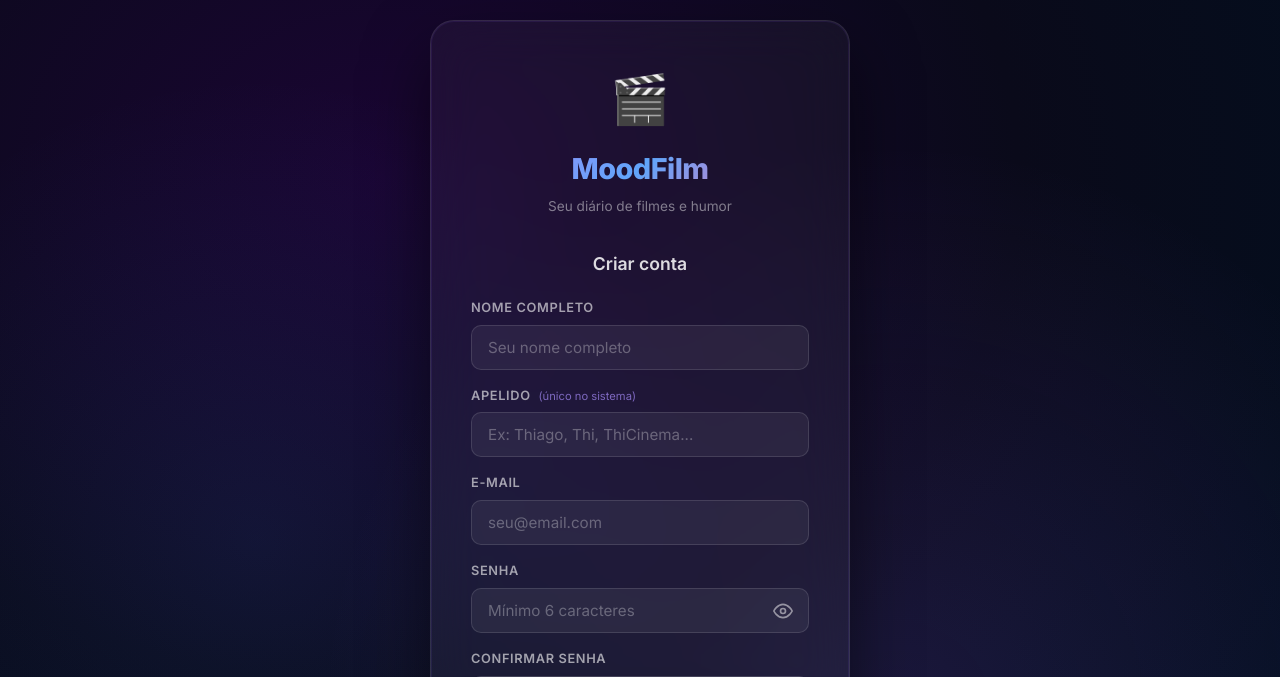
Test: Register Page Component › deve exibir erro caso as senhas digitadas não coincidam
This screenshot has width=1280, height=677.
Type "Thiago Silva" into the field labelled "Nome completo" at (640, 347), box [471,325,809,370]
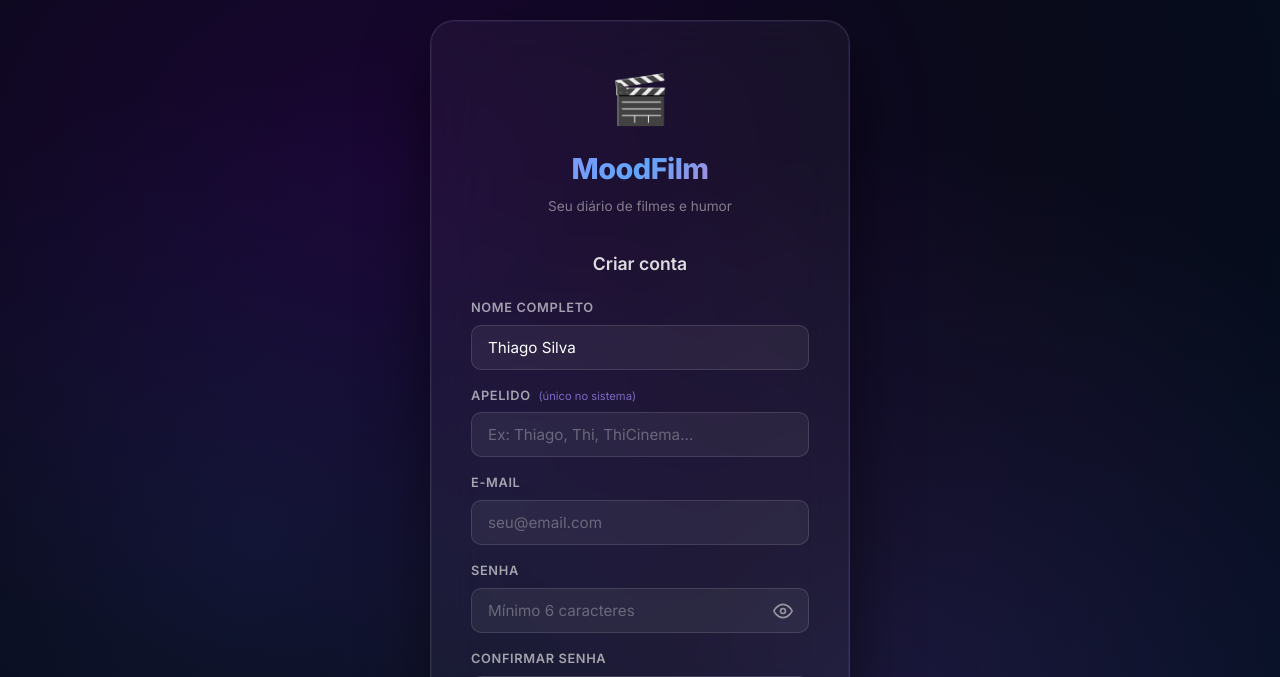
Type "thiagocine" into the field labelled "Apelido (único no sistema)" at (640, 435), box [471,412,809,458]
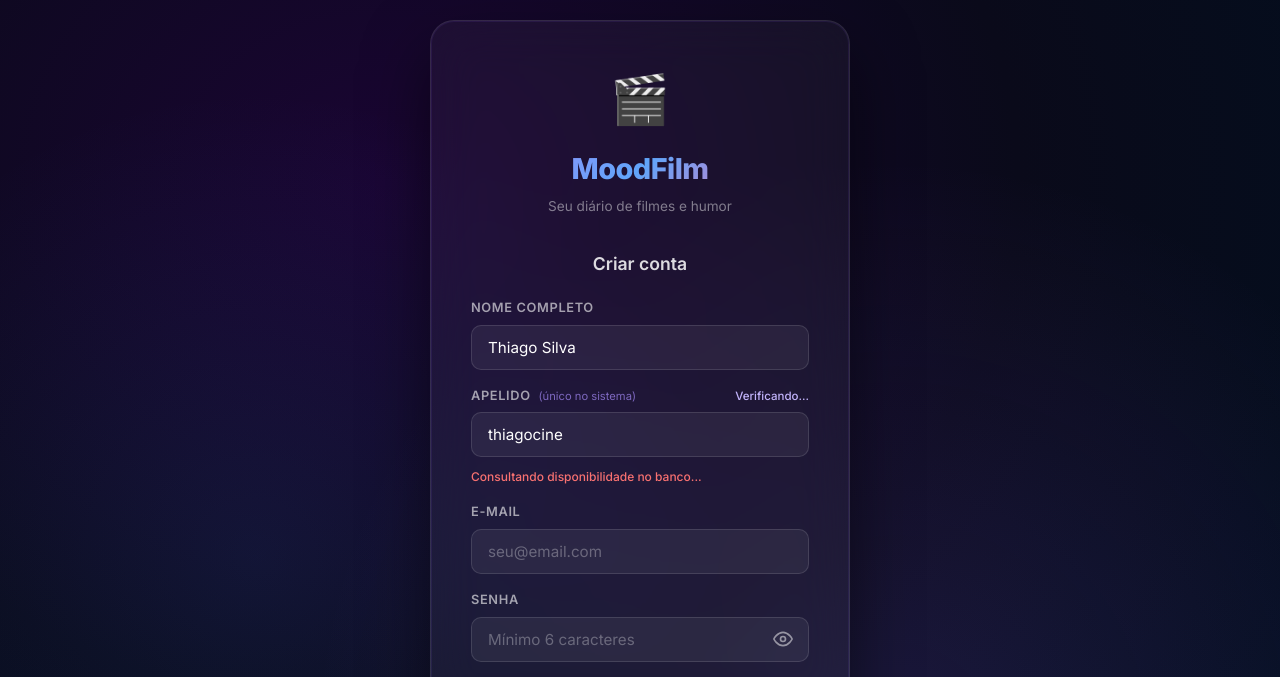
Type "thiago@teste.com" into the field labelled "E-mail" at (640, 552), box [471,529,809,574]
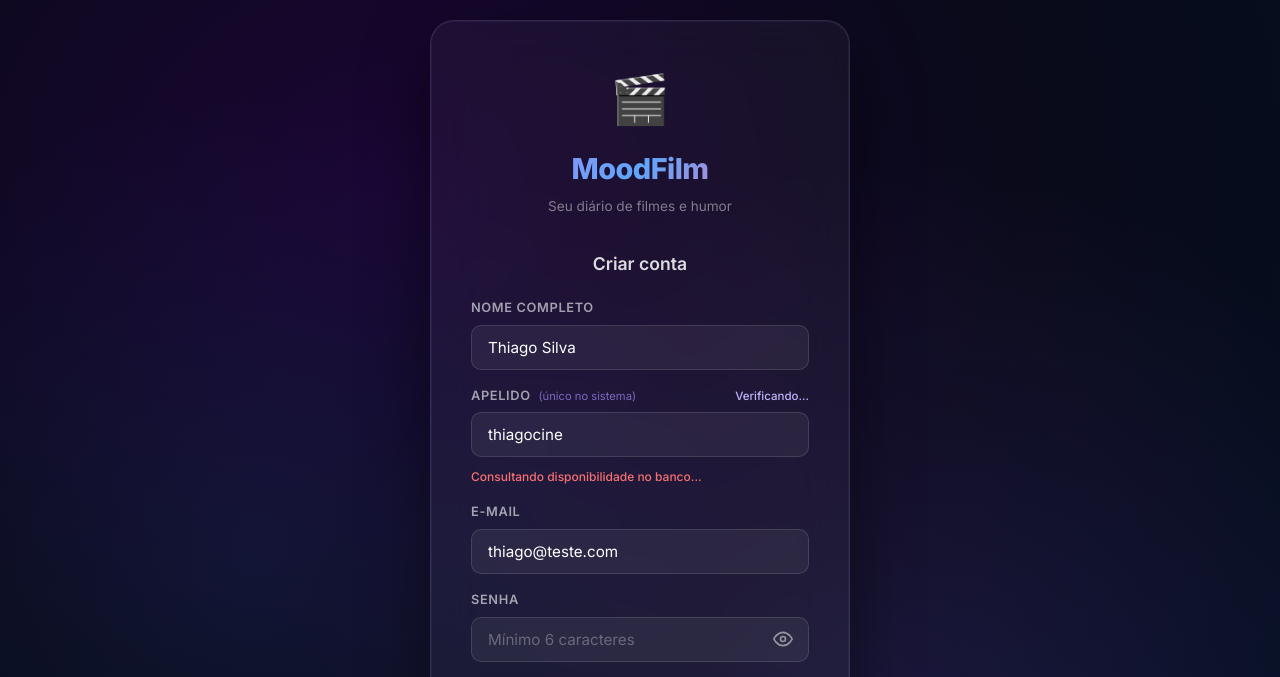
Type "123456" into the password field labelled "Senha" at (640, 640), box [471,617,809,662]
(page scrolled)
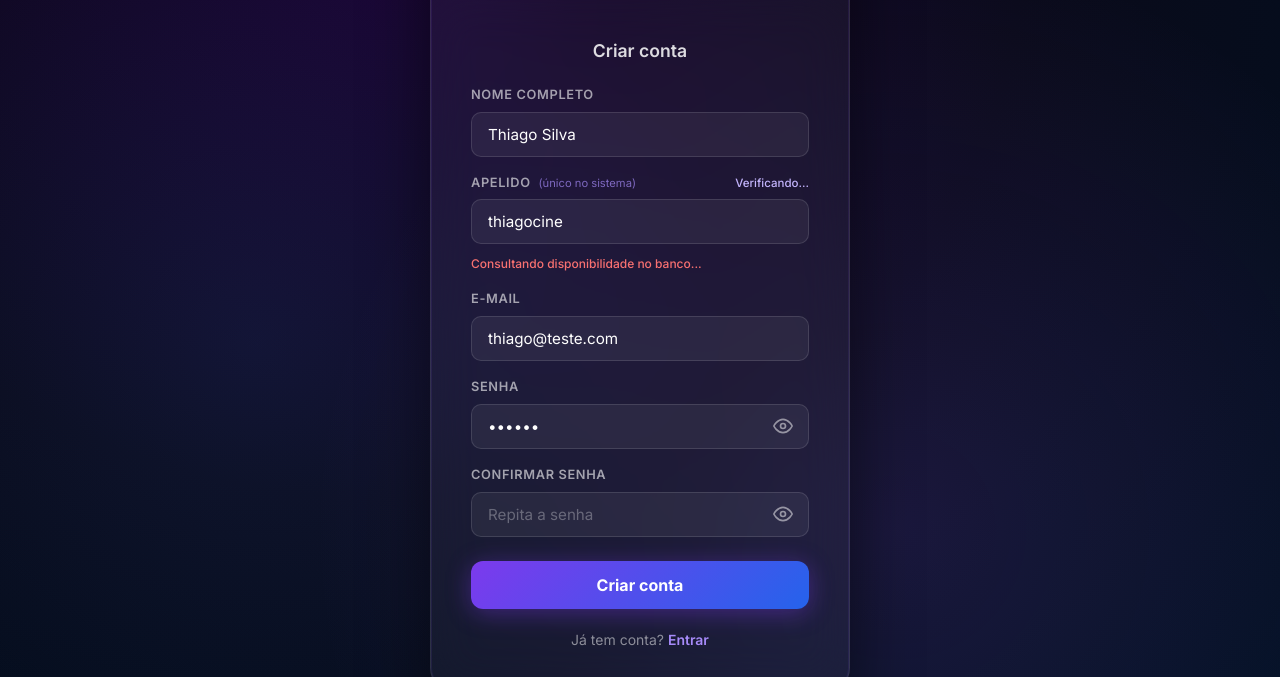
Type "654321" into the password field labelled "Confirmar senha" at (640, 514), box [471,492,809,537]
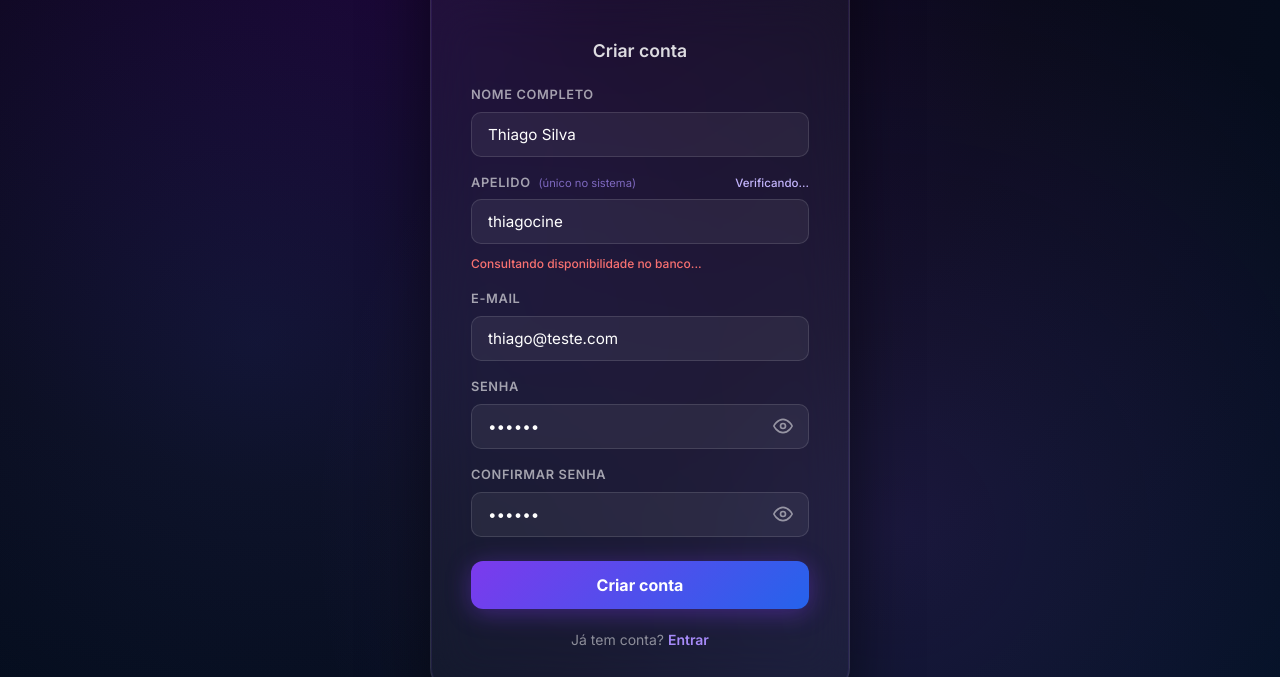
Submit the form named "Criar conta", box [471,85,809,609]
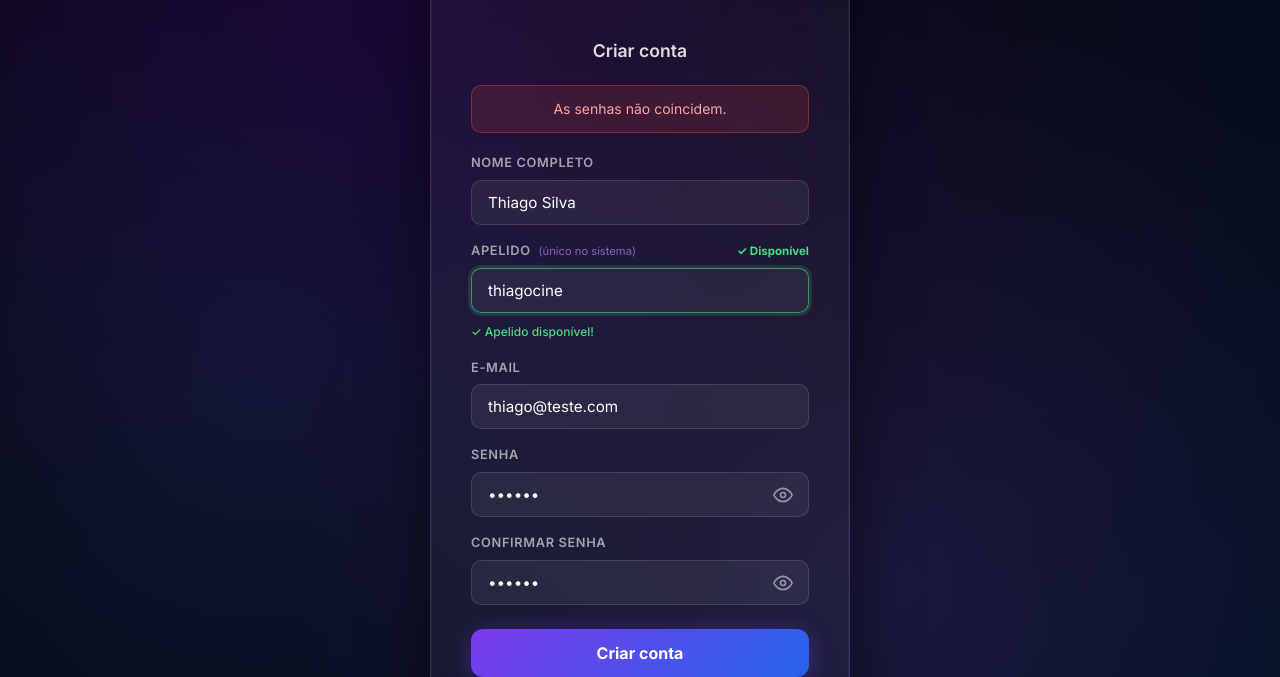
Result: the text "As senhas não coincidem." is shown at [471,85,809,133]
